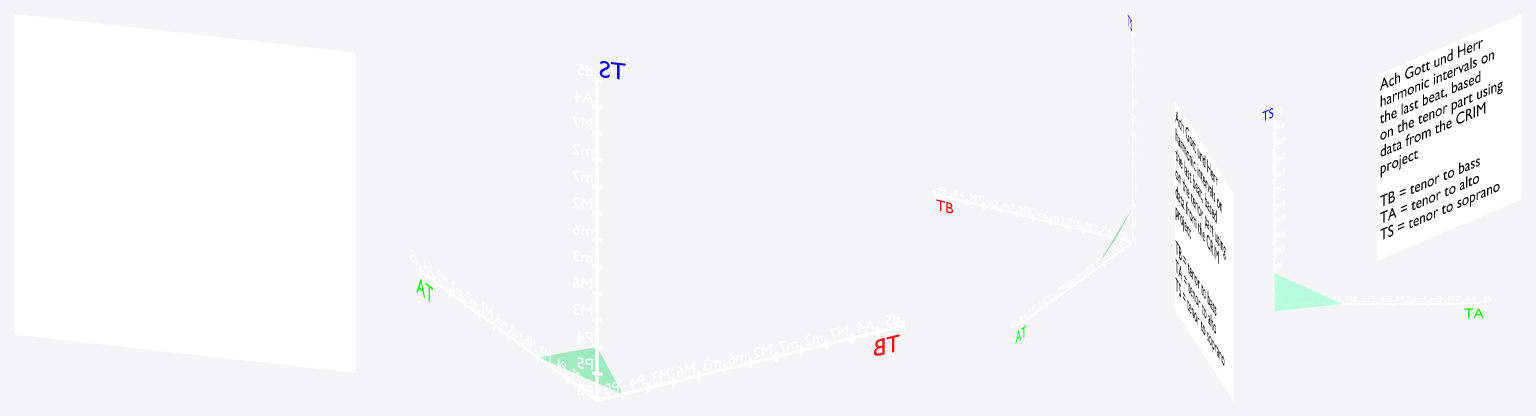
The model's file is tenorFinalChart.glb.
3 views of the same model, side by side, from view 1: azimuth 30°, elevation 25°; view 2: azimuth 150°, elevation 25°; view 3: azimuth 270°, elevation 25° (orthographic). The views are drawn at different scales.
Visible parts, largest first — view 1: textBox, z_axis, x_axis, intervals, y_axis; view 2: textBox, text, x_axis, y_axis; view 3: textBox, text, intervals, z_axis, y_axis.
Part boxes in pixels (<box>): textBox: <box>14,14,355,372</box>; z_axis: <box>592,78,602,400</box>; x_axis: <box>597,320,904,401</box>; intervals: <box>540,348,620,392</box>; y_axis: <box>419,265,596,401</box>; textBox: <box>1174,101,1233,401</box>; text: <box>1175,111,1225,365</box>; x_axis: <box>933,190,1132,242</box>; y_axis: <box>1017,241,1132,329</box>; textBox: <box>1377,14,1521,260</box>; text: <box>1380,40,1502,239</box>; intervals: <box>1274,273,1341,311</box>; z_axis: <box>1272,116,1276,303</box>; y_axis: <box>1274,301,1480,306</box>.
Size of the model in its own units: 2.21 by 1.14 by 1.27.
